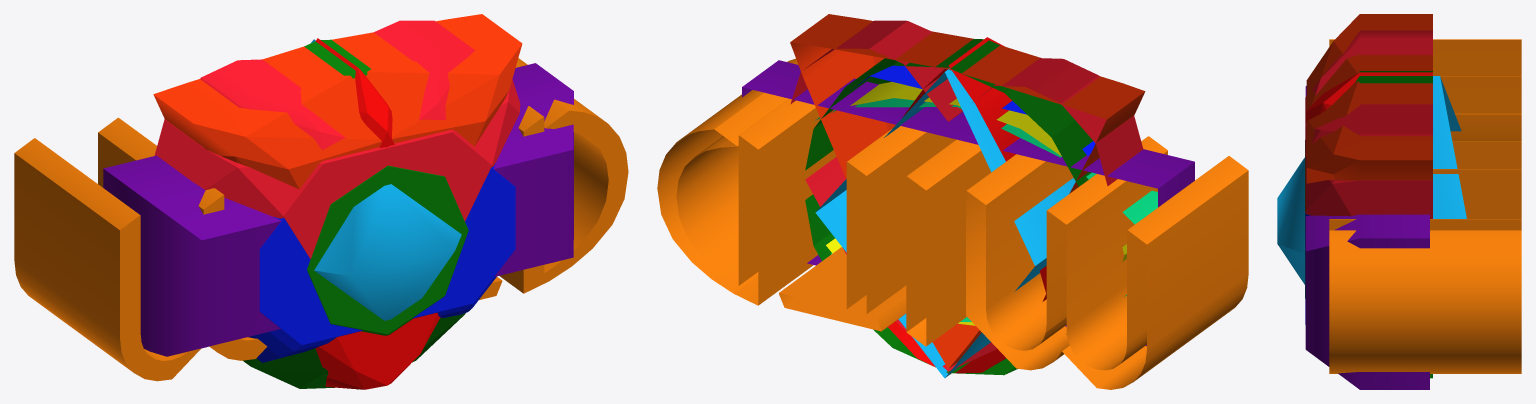
The model's file is diamonds.fbx.
3 renders of one model, left to right at view 1: azimuth 30°, elevation 25°; view 2: azimuth 150°, elevation 25°; view 3: azimuth 270°, elevation 25°, orthographic. The views are drawn at different scales.
Parts seen in each view (by area): view 1: d_w, d_bag, d_trl, d_hrt, d_emr, d_oct, d_rnd, d_per; view 2: d_w, d_trl, d_hrt, d_bag, d_rnd, d_oct, d_per, d_ovl, d_mrq, d_emr; view 3: d_w, d_trl, d_hrt, d_bag, d_oct, d_per, d_rnd.
Part boxes in pixels (<box>): d_w: <box>14,58,628,381</box>; d_bag: <box>103,63,573,356</box>; d_trl: <box>153,14,522,189</box>; d_hrt: <box>154,20,520,259</box>; d_emr: <box>248,163,515,362</box>; d_oct: <box>311,39,461,389</box>; d_rnd: <box>243,39,468,388</box>; d_per: <box>315,38,440,389</box>; d_w: <box>657,58,1248,389</box>; d_trl: <box>790,14,1145,368</box>; d_hrt: <box>790,20,1143,371</box>; d_bag: <box>742,60,1194,346</box>; d_rnd: <box>805,39,1092,375</box>; d_oct: <box>815,68,1075,378</box>; d_per: <box>888,37,1046,373</box>; d_ovl: <box>826,82,1126,325</box>; d_mrq: <box>815,98,1157,321</box>; d_emr: <box>852,65,1095,155</box>; d_w: <box>1329,39,1521,373</box>; d_trl: <box>1306,14,1432,183</box>; d_hrt: <box>1305,30,1432,218</box>; d_bag: <box>1305,86,1429,389</box>; d_oct: <box>1277,76,1466,284</box>; d_per: <box>1306,72,1432,127</box>; d_rnd: <box>1305,71,1432,378</box>.
Size of the model in its own units: 0.0932 by 0.0564 by 0.0425.
